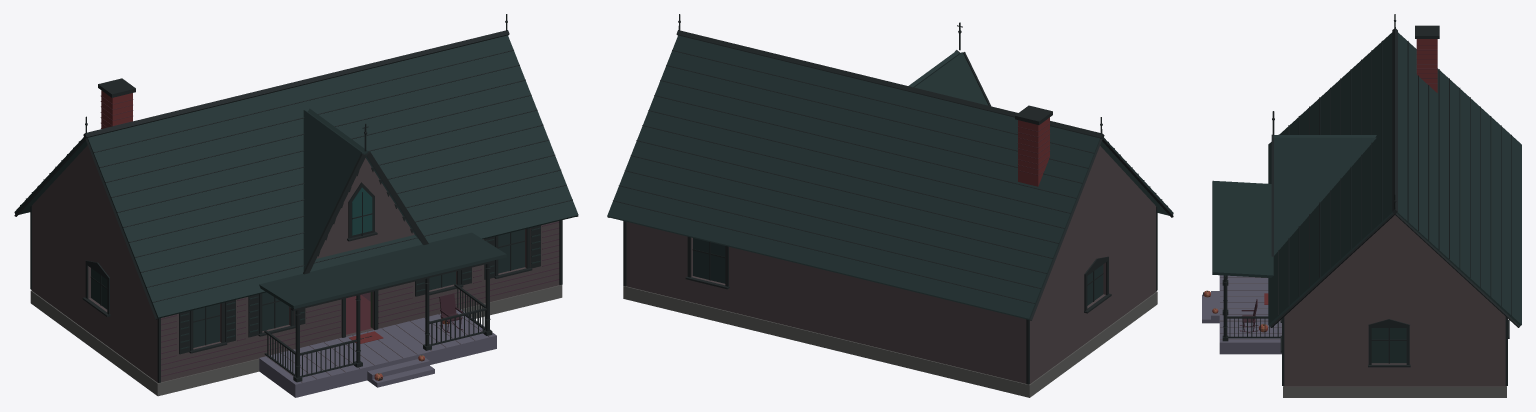
File: casa_lexy.glb
3 renders of one model, left to right at view 1: azimuth 30°, elevation 25°; view 2: azimuth 150°, elevation 25°; view 3: azimuth 270°, elevation 25°, orthographic. The views are drawn at different scales.
Visible parts, largest first — view 1: Casa, Geamuri; view 2: Casa, Geamuri; view 3: Casa, Geamuri.
Part boxes in pixels (bbox=[...]): Casa: bbox=[14, 14, 578, 397]; Geamuri: bbox=[91, 229, 524, 347]; Casa: bbox=[607, 14, 1173, 397]; Geamuri: bbox=[693, 238, 1103, 305]; Casa: bbox=[1202, 14, 1521, 397]; Geamuri: bbox=[1371, 328, 1406, 363].
Bounding box in the file's own units: 14.7 × 7.97 × 10.93.
